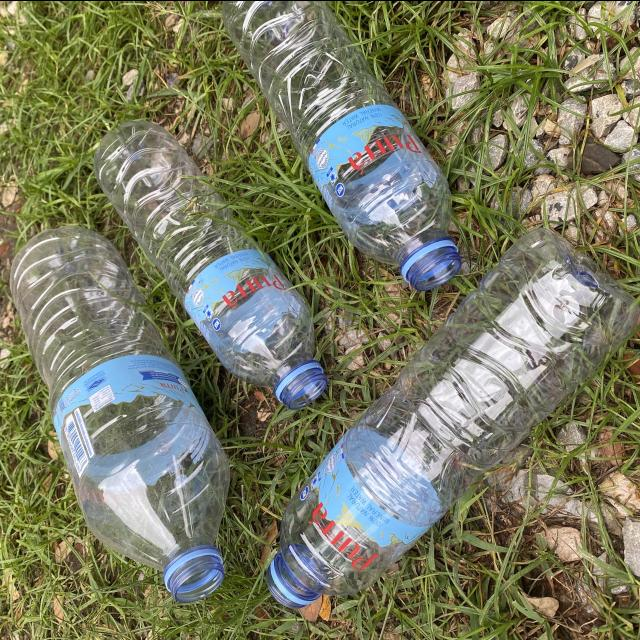plastik: (266, 227, 638, 606), (10, 226, 230, 601), (224, 0, 461, 290), (94, 121, 326, 407)
